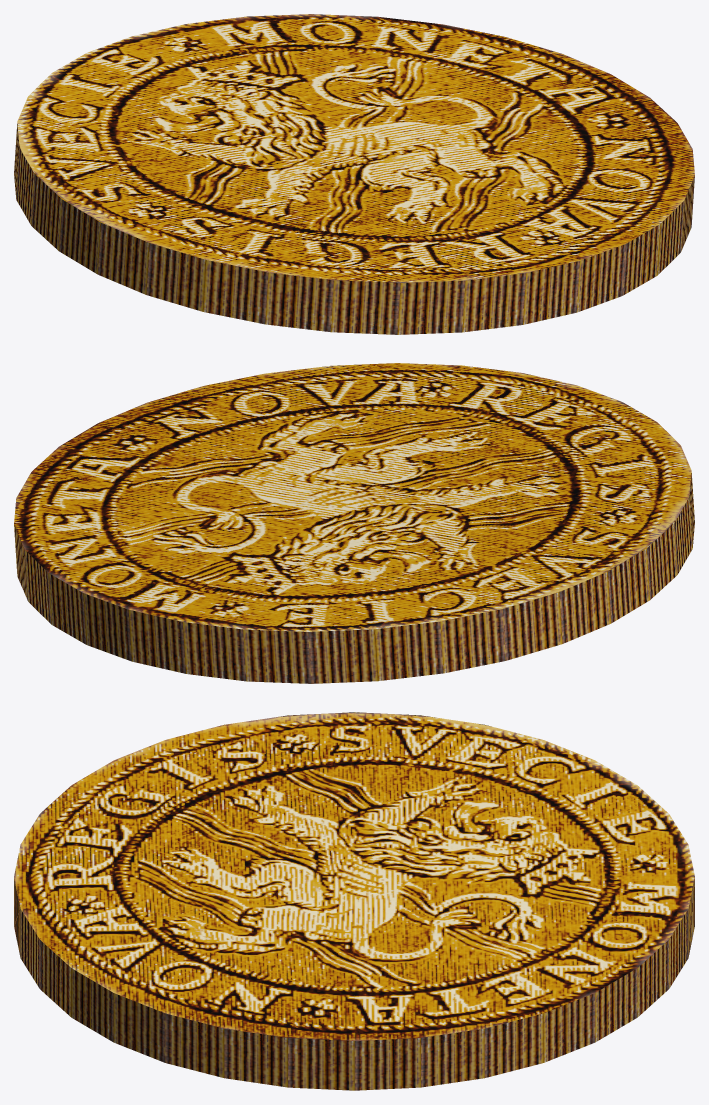
The model's file is coin03.obj.
3 views of the same model, one above another, from view 1: azimuth 30°, elevation 25°; view 2: azimuth 150°, elevation 25°; view 3: azimuth 270°, elevation 25° (orthographic).
Parts seen in each view (by area): view 1: coin01_Circle; view 2: coin01_Circle; view 3: coin01_Circle.
Part boxes in pixels (x1=…): coin01_Circle: x1=14, y1=14, x2=694, y2=334; coin01_Circle: x1=14, y1=363, x2=694, y2=683; coin01_Circle: x1=14, y1=712, x2=694, y2=1090.
Bounding box in the file's own units: 1.24 × 0.1863 × 1.24.
